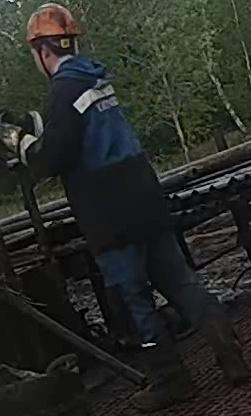gloves: (0, 125, 41, 164), (1, 106, 38, 129)
helmet: (26, 3, 82, 45)
vest: (38, 63, 172, 255)
